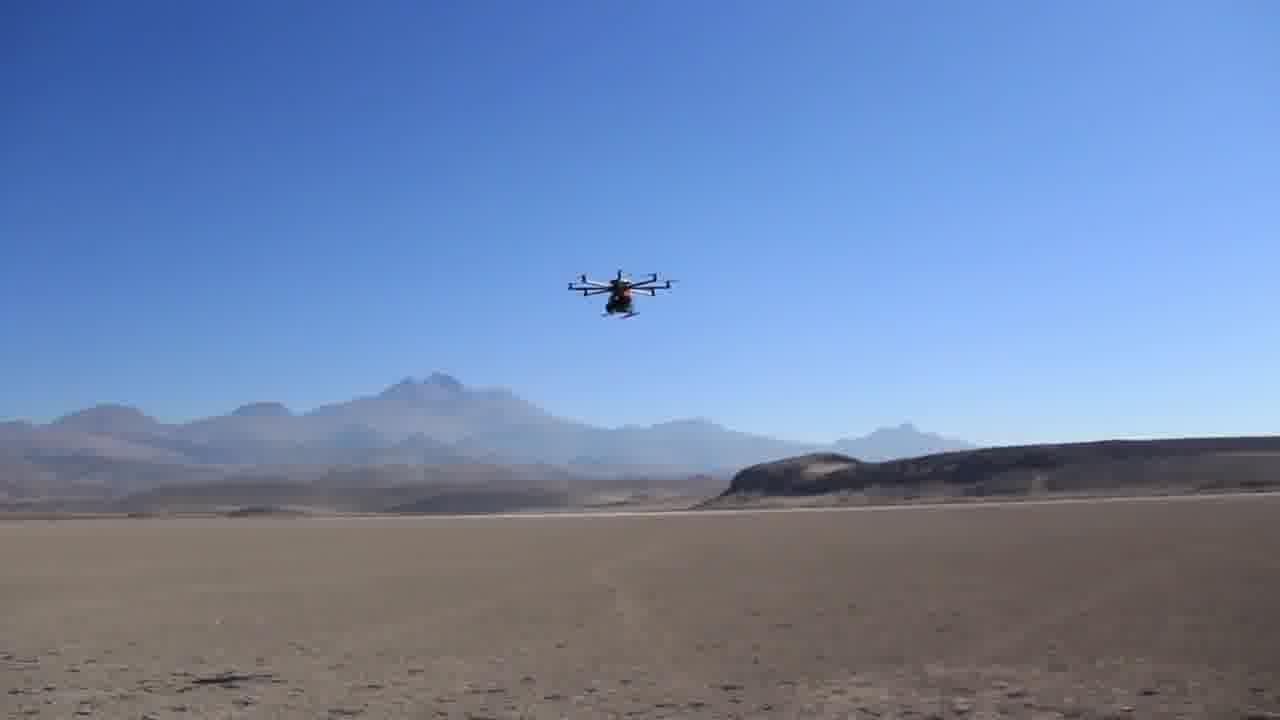drone: (563, 260, 677, 327)
